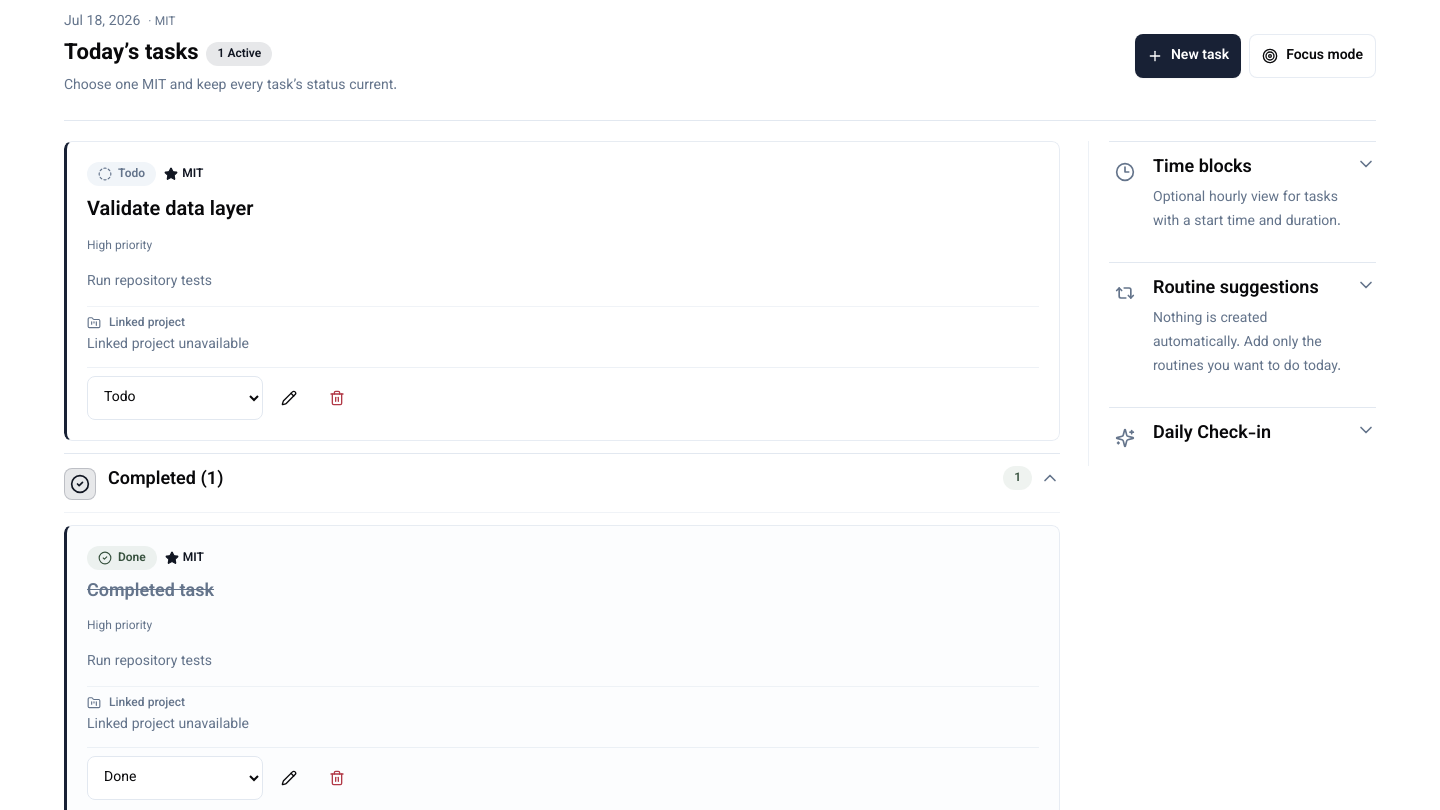
Test case: Today workspace presentation › keeps completed cards out of Focus Mode when active tasks exist
What coordinates should you click on to do the following:
click the button "Focus mode"
I would click on:
 (1313, 56)
Its box is left=1249, top=34, right=1376, bottom=78.
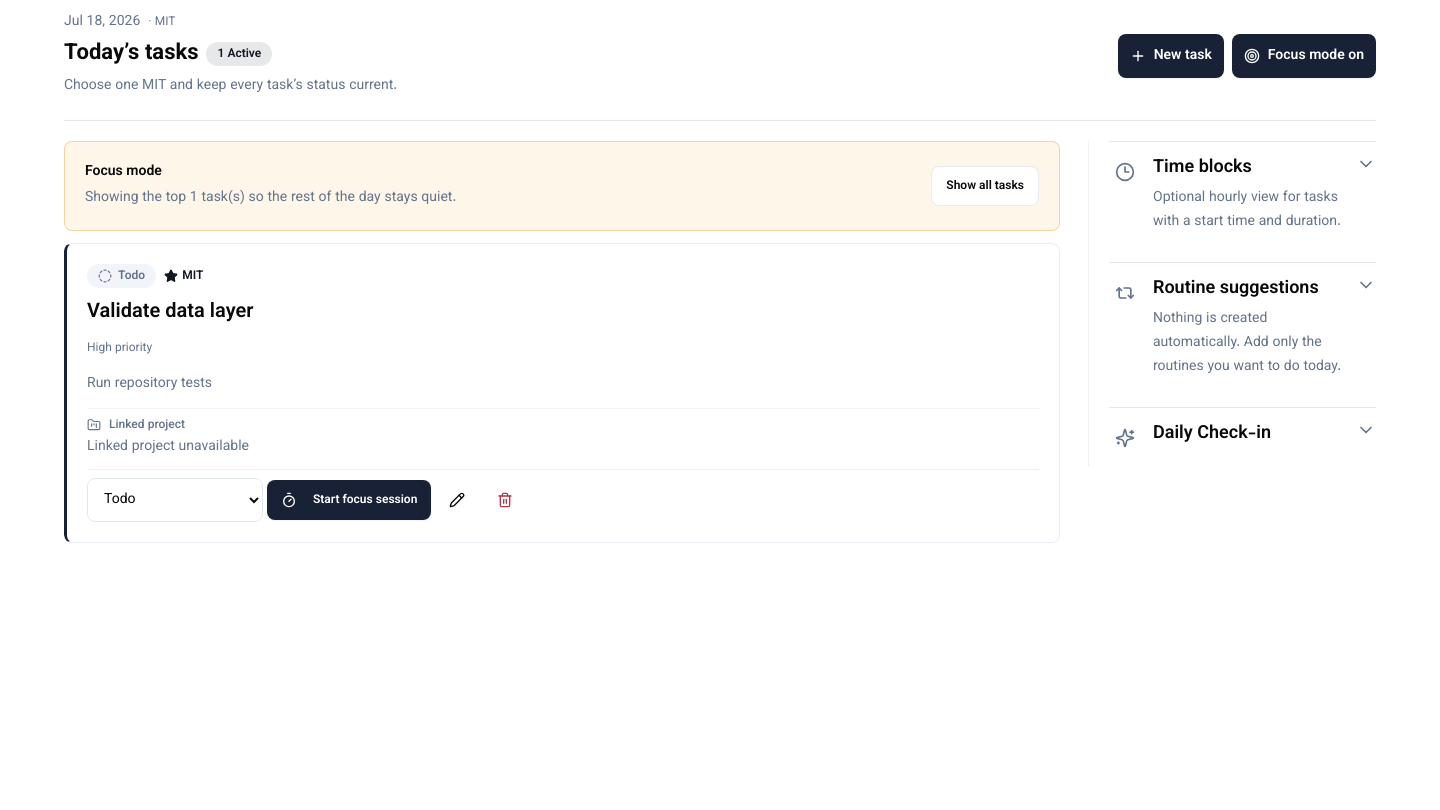
Now the number of elements with class "alios-today-task" is 1, box left=64, top=243, right=1060, bottom=543
